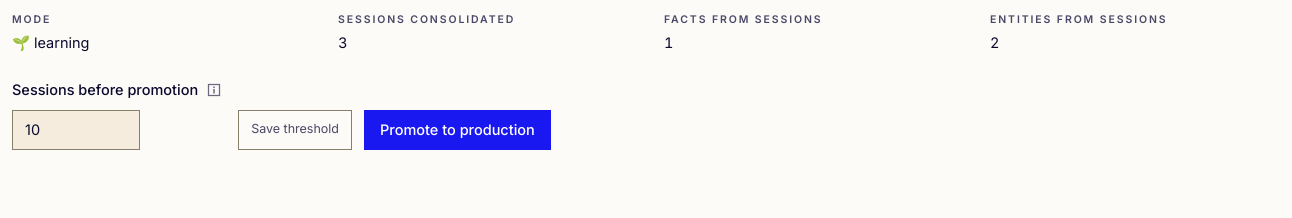
shows the scope message on a 403
Click the button "Promote to production". click: {"x": 457, "y": 130}
box: [364,110,551,150]
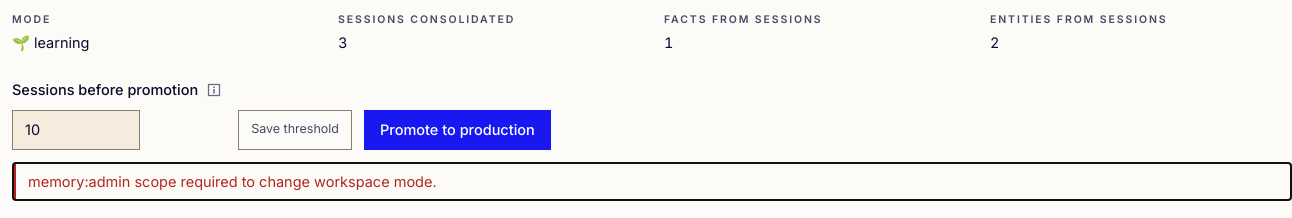
Expected: the message shows "memory:admin", [28,172,437,190]
